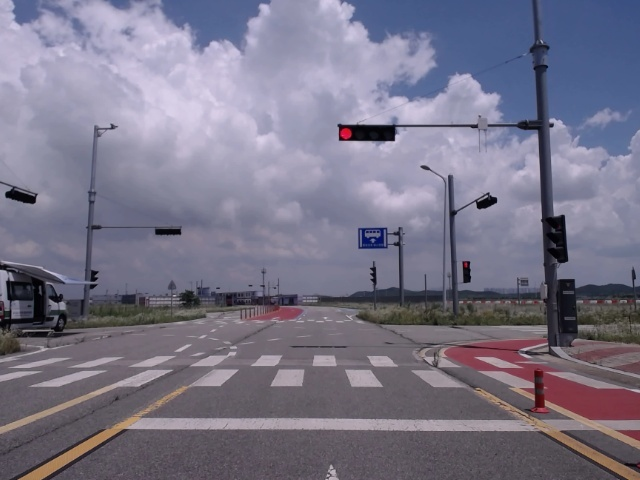red_4: (339, 127, 395, 141)
